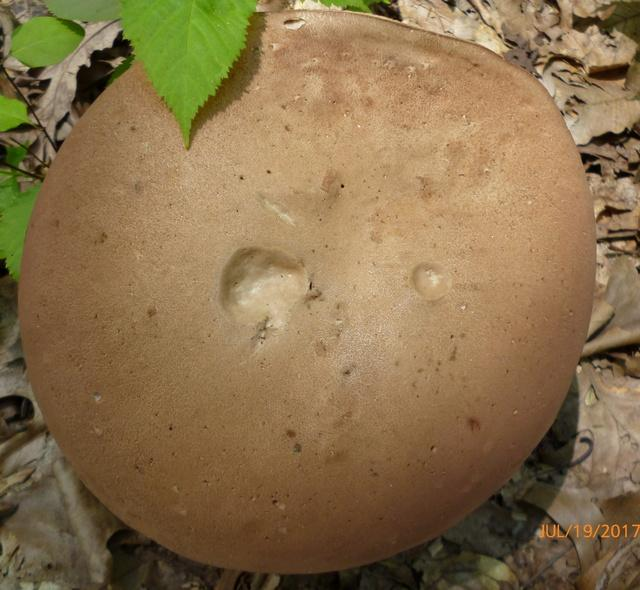Non-edible Mushroom: (16, 8, 598, 574)
